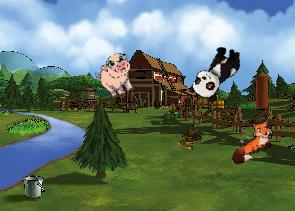fox: (220, 112, 282, 167)
panda: (186, 39, 246, 106)
pig: (91, 49, 143, 103)
